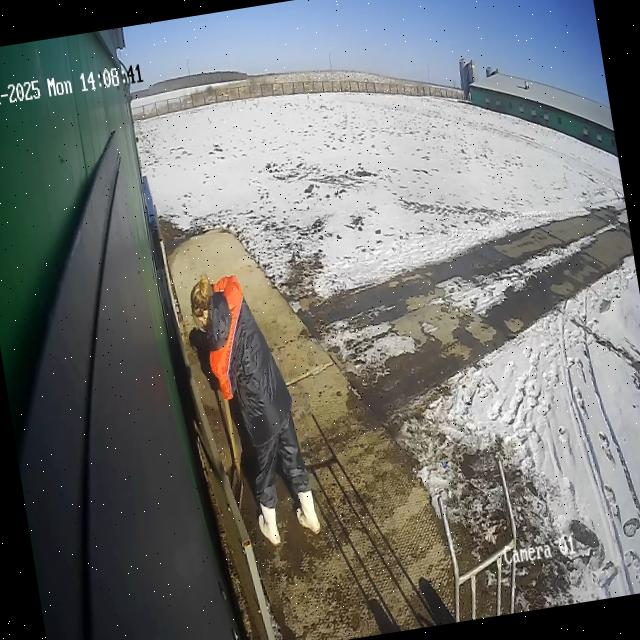Red uniform: (194, 264, 317, 518)
